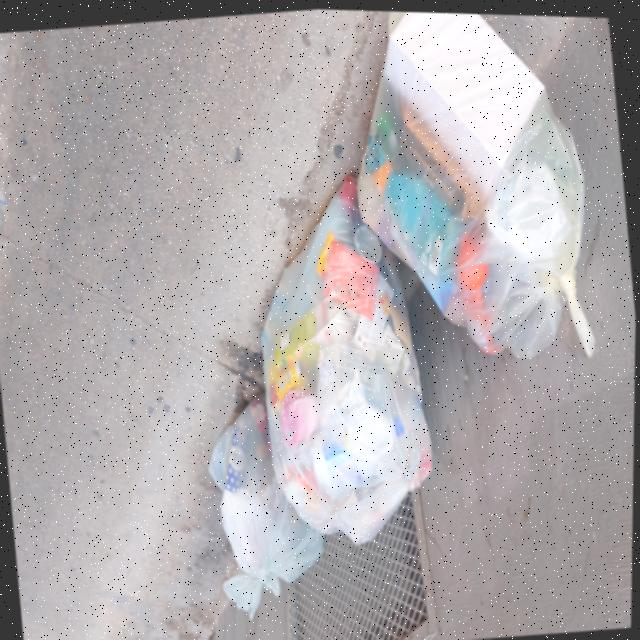Recycled Waste -Grey or Green Bag-: (336, 9, 604, 375), (242, 164, 446, 551), (198, 384, 336, 625)
